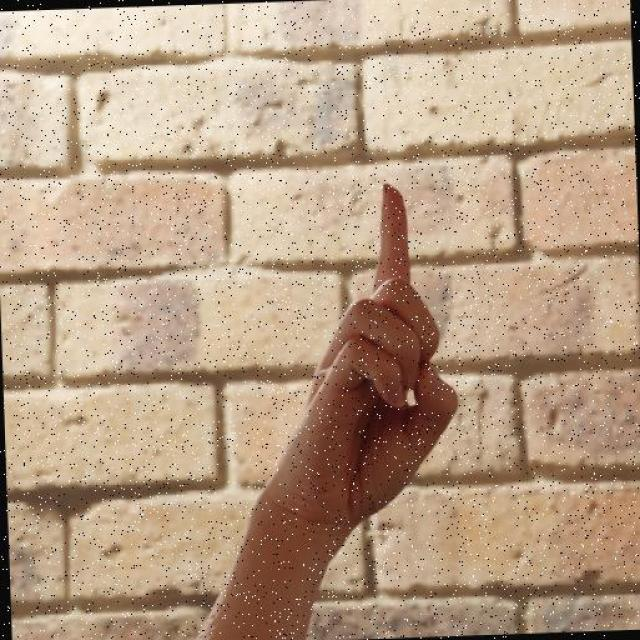D: (266, 142, 489, 582)
